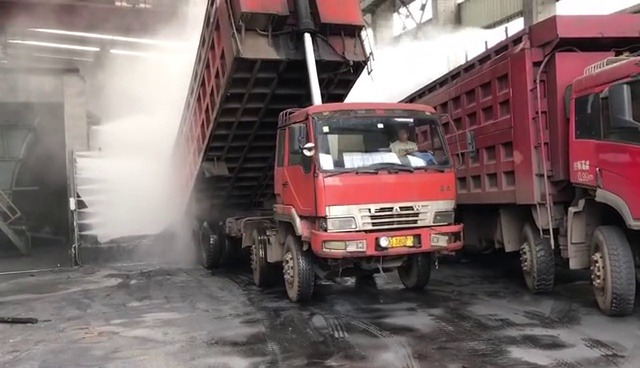dust: (11, 0, 222, 264), (307, 18, 522, 102)
truck: (174, 0, 453, 288), (456, 0, 639, 318)
